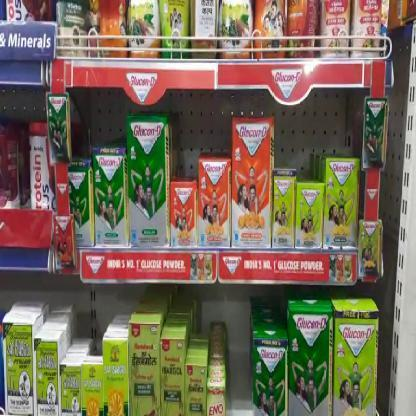Glucon D Nimbu Pani 1-KG: (334, 304, 379, 415), (324, 158, 357, 249)
Glucon D Regular 1-KG: (128, 118, 167, 248)
Glucon D Tangy orange 1-KG: (232, 113, 271, 242)
